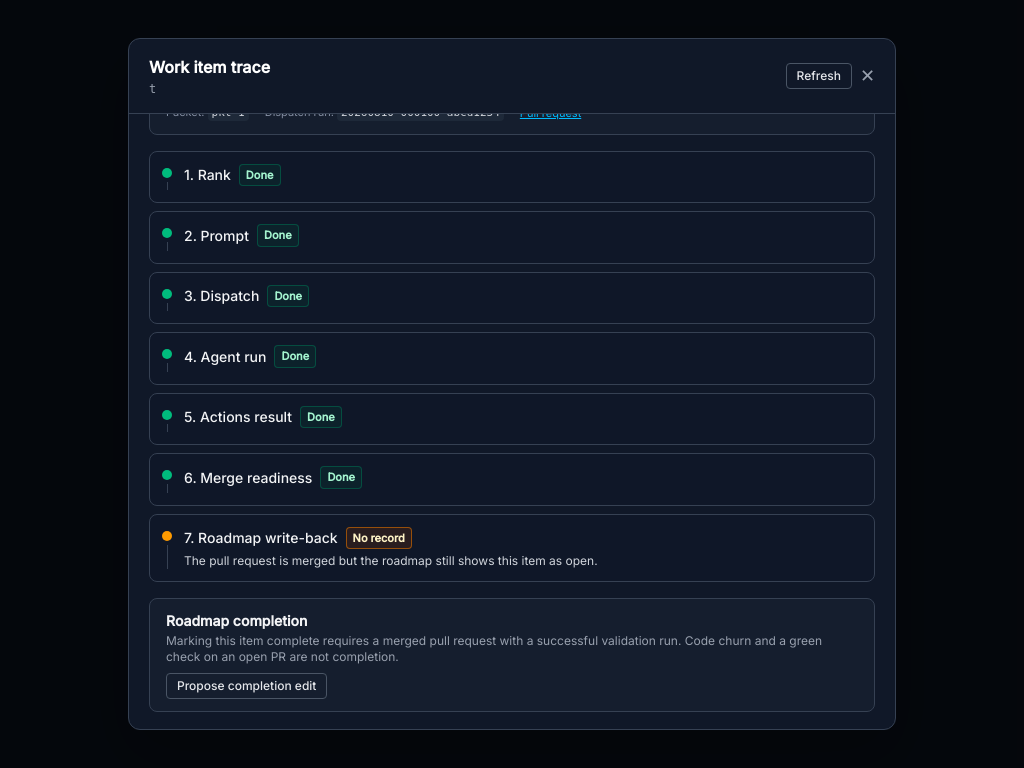
Test case: WorkItemTraceModal — roadmap write-back › confirms before applying, and does not apply on cancel
This screenshot has width=1024, height=768.
(page scrolled)
Check: the element with test id "work-item-write-back" is shown, box [149,598,875,712]
Click the button with test id "work-item-write-back-preview" at (247, 686), box [166,673,327,699]
(page scrolled)
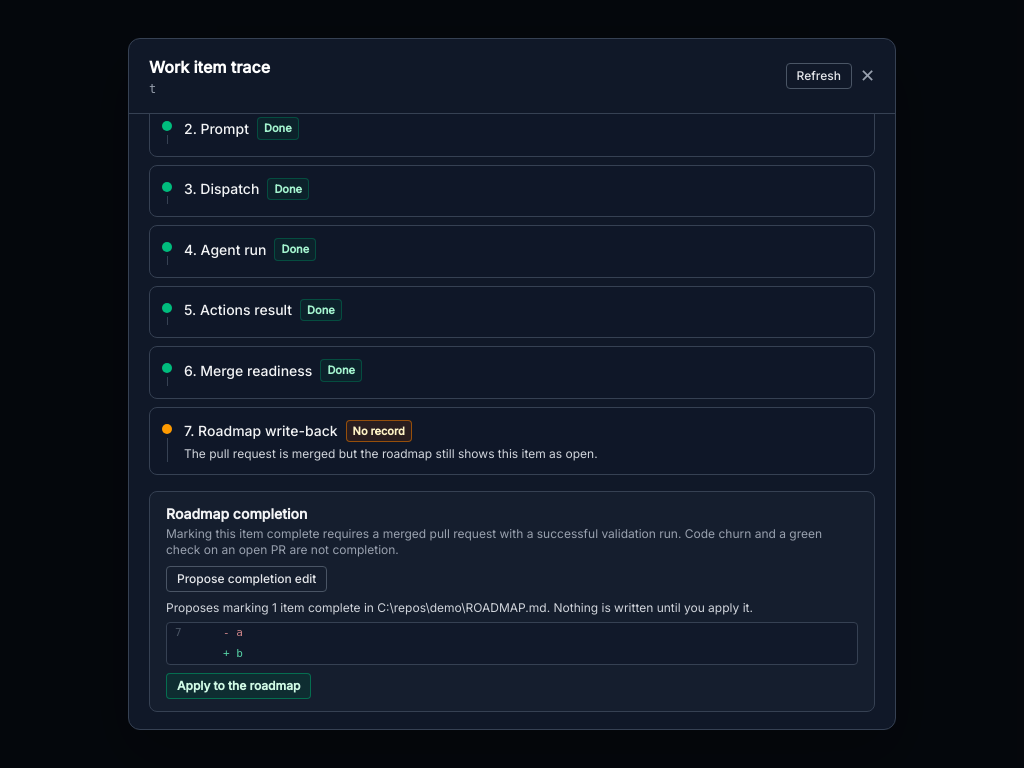
Click the button with test id "work-item-write-back-apply" at (239, 686), box [166,673,311,699]
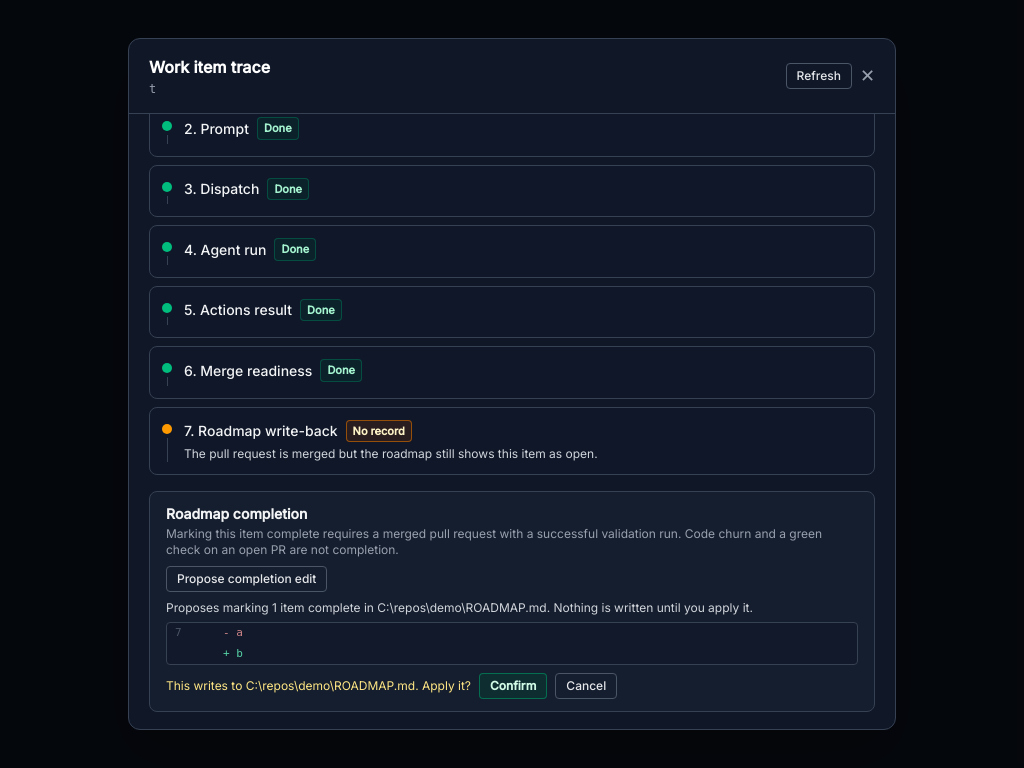
Check: the text with test id "work-item-write-back-confirm-prompt" shows "C:\\repos\\demo\\ROADMAP.md", box [246,678,415,693]
Click the button with test id "work-item-write-back-cancel" at (586, 686), box [555,673,617,699]
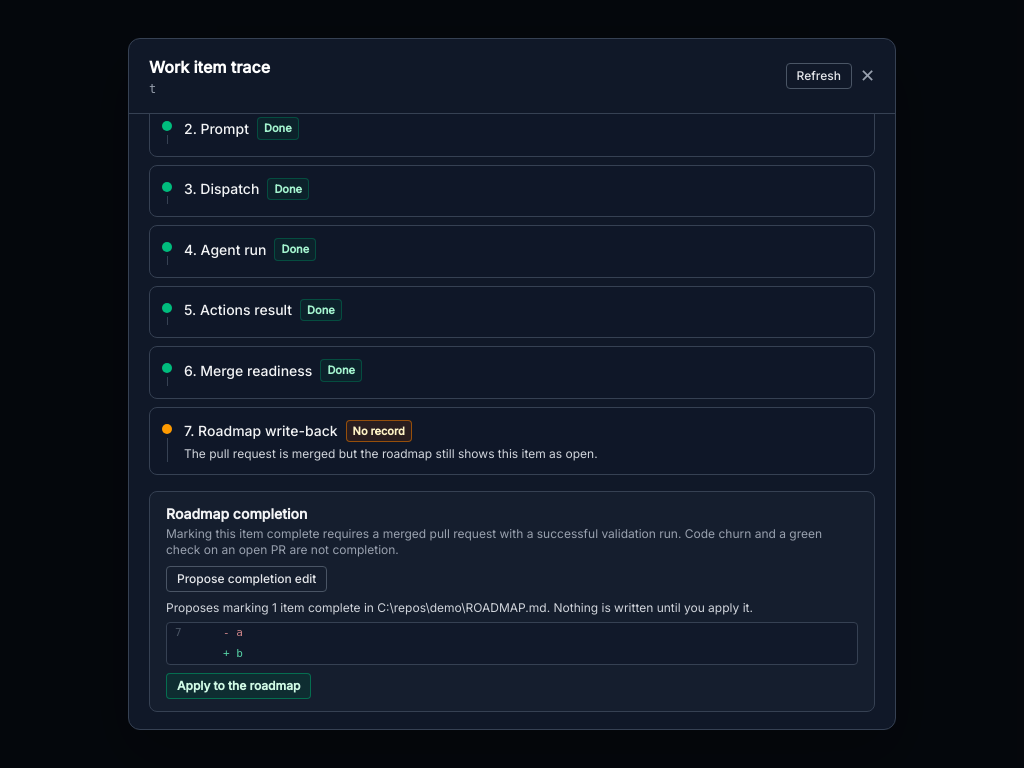
Check: the text with test id "work-item-write-back-confirm-prompt" is gone
